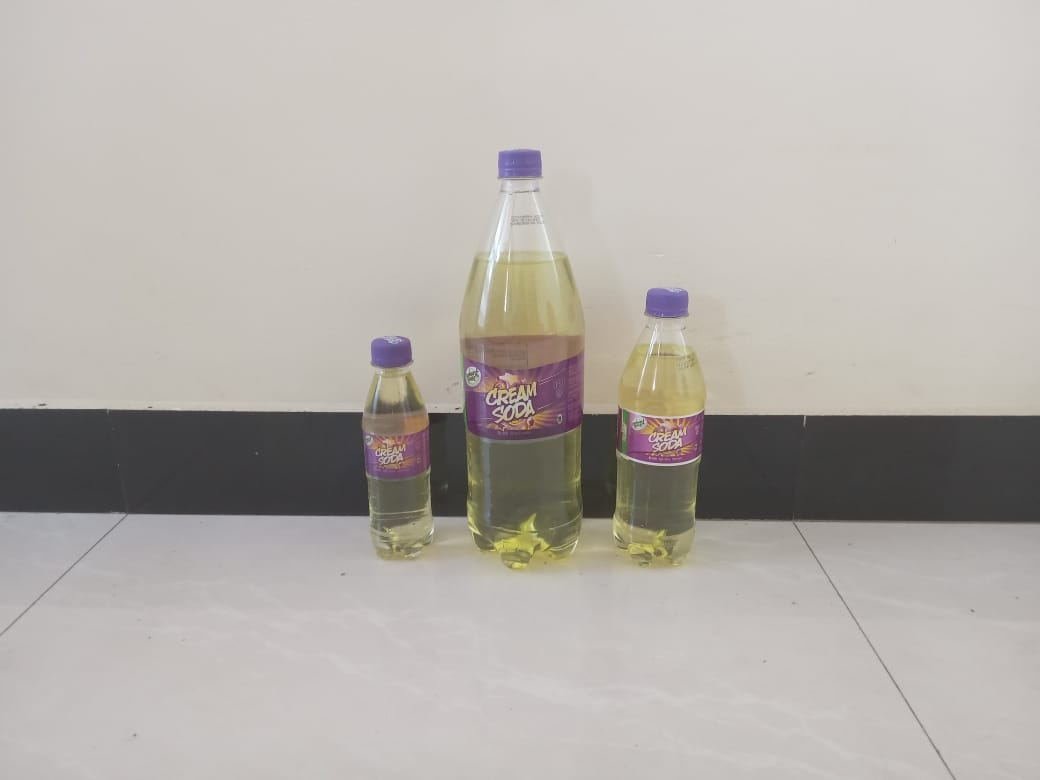L: (458, 150, 588, 568)
S: (613, 285, 707, 572)
Xs: (358, 338, 436, 561)
